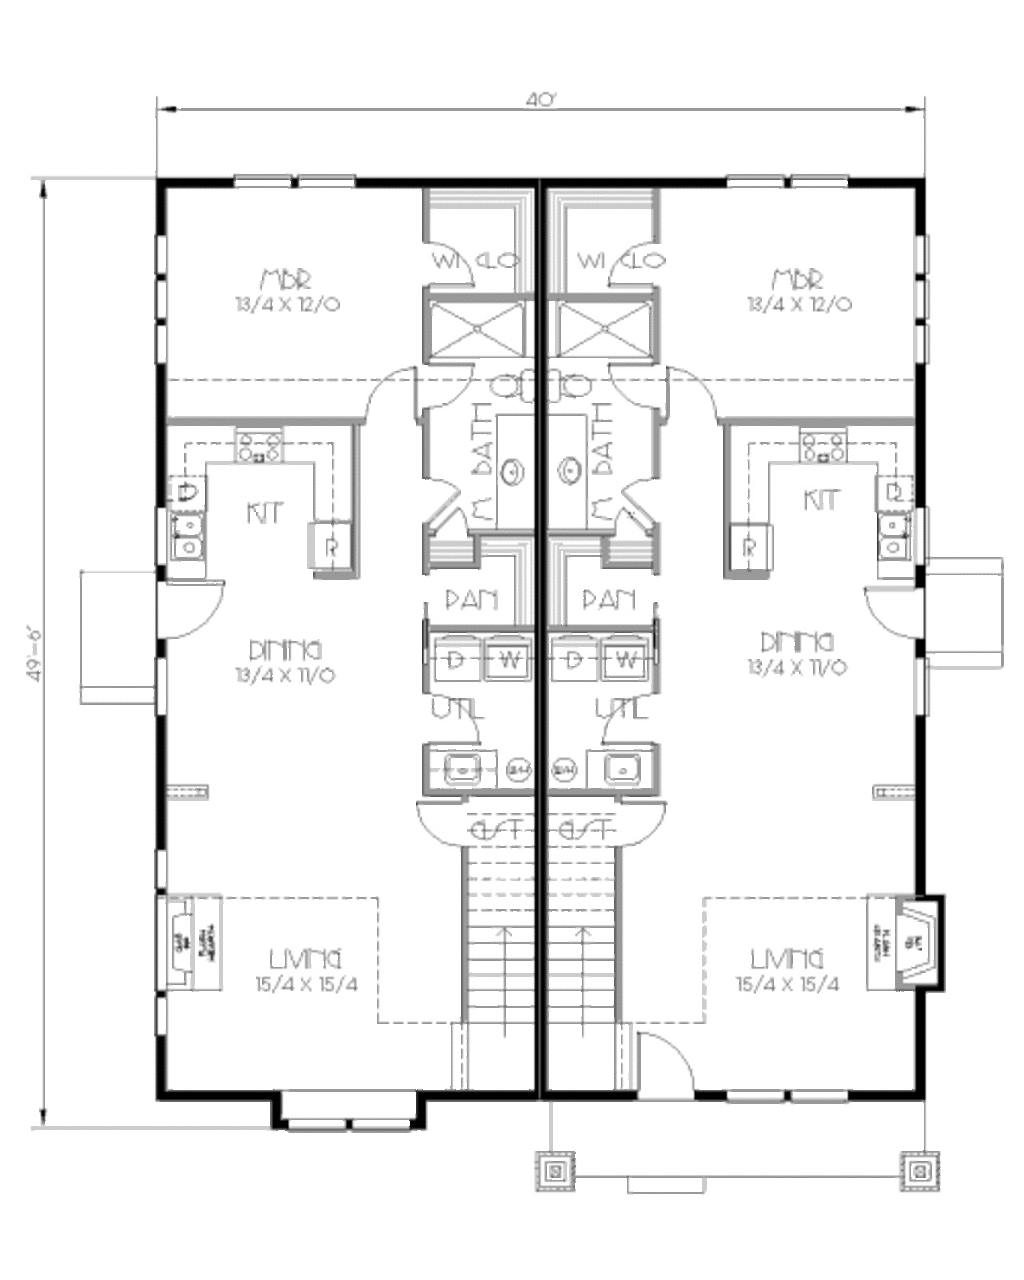door: (608, 1013, 700, 1104), (644, 347, 720, 430), (587, 680, 671, 747), (161, 571, 234, 643), (346, 355, 422, 423), (855, 578, 932, 643), (416, 455, 471, 535), (408, 231, 475, 294), (600, 357, 671, 412), (420, 353, 473, 412), (432, 690, 485, 741)
sink: (583, 749, 673, 798), (438, 751, 504, 779)
stairs: (444, 835, 544, 1035), (544, 833, 628, 1041)
twin_sink: (861, 504, 920, 572), (155, 504, 216, 566)
window: (228, 161, 377, 206), (142, 222, 187, 360), (906, 229, 949, 370), (720, 159, 867, 194), (281, 1106, 414, 1143), (732, 1088, 842, 1108)
